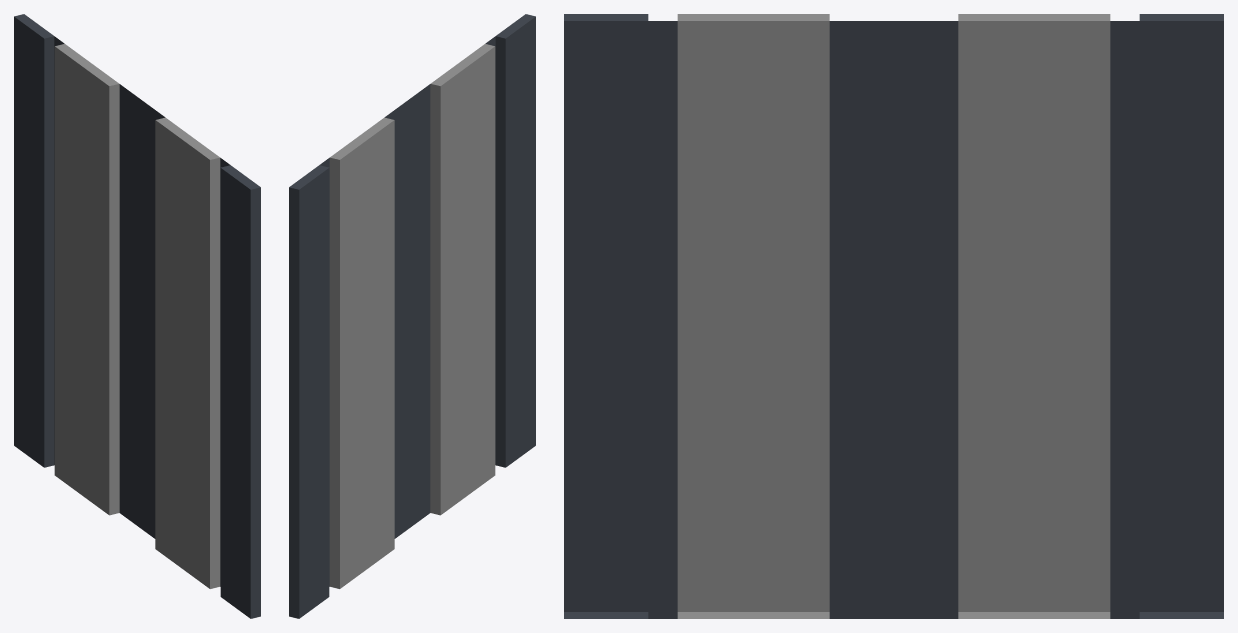
The model's file is Wall_12.FBX.
3 renders of one model, left to right at view 1: azimuth 30°, elevation 25°; view 2: azimuth 150°, elevation 25°; view 3: azimuth 270°, elevation 25°, orthographic. The views are drawn at different scales.
Parts seen in each view (by area): view 1: Wall_12_LOD0; view 2: Wall_12_LOD0; view 3: Wall_12_LOD0.
Part boxes in pixels (x1,y1,x2,y2): Wall_12_LOD0: (14,14,260,618); Wall_12_LOD0: (289,14,535,618); Wall_12_LOD0: (564,14,1223,618).
Size of what is drawn, in the model's own units: 4.46 by 180 by 180.
